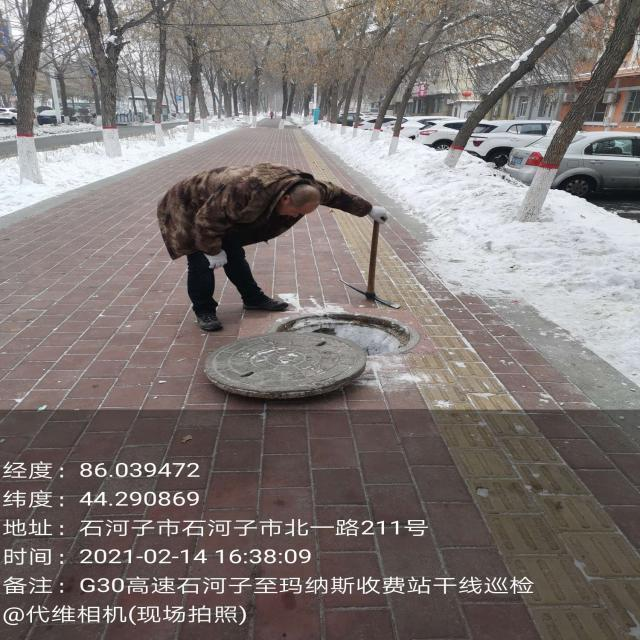manhole: (205, 301, 414, 399)
